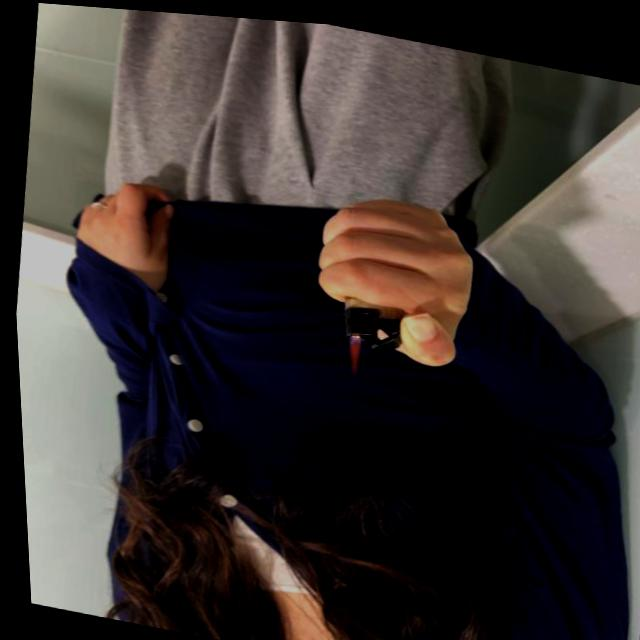helmet: (339, 329, 360, 369)
